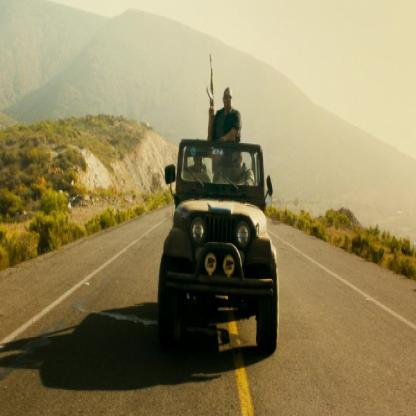Gun: (205, 47, 216, 125)
